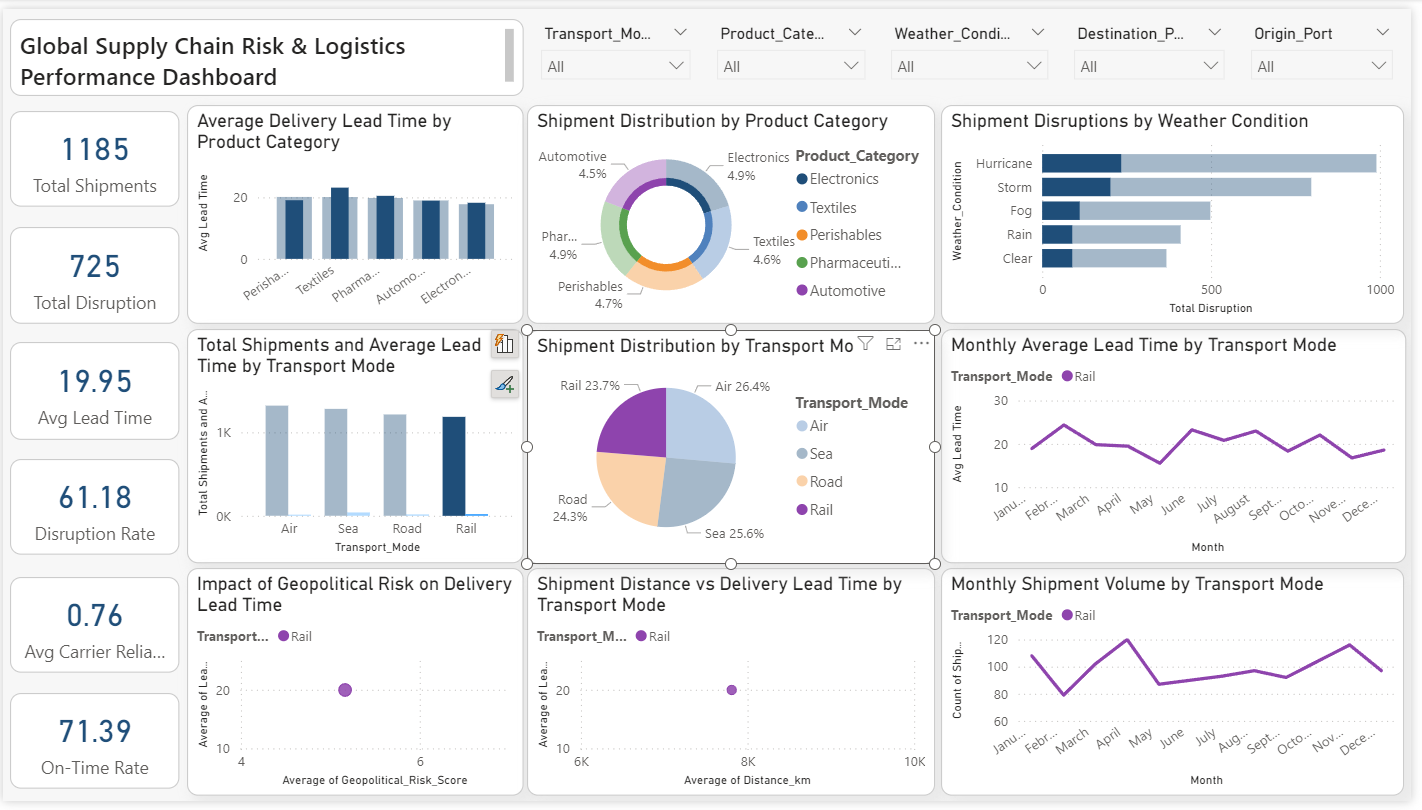

Layout of this report page (visuals, bound fields, positions):
{"tool":"powerbi","page":{"name":"Page 4","canvas":[1280,720],"ordinal":3},"visuals":[{"type":"columnChart","title":"Average Delivery Lead Time by Product Category","fields":{"Category":["supply_chain_analysis shipments.Product_Category"],"Y":["supply_chain_analysis shipments.Avg Lead Time"]},"box":[167.4,87.2,305.8,198.8],"z":0},{"type":"clusteredColumnChart","title":"Total Shipments and Average Lead Time by Transport Mode","fields":{"Category":["supply_chain_analysis shipments.Transport_Mode"],"Y":["supply_chain_analysis shipments.Total Shipments","supply_chain_analysis shipments.Avg Lead Time"]},"box":[167.4,290.7,305.8,212.8],"z":1000},{"type":"scatterChart","title":"Impact of Geopolitical Risk on Delivery Lead Time","fields":{"X":["Avg(supply_chain_analysis shipments.Geopolitical_Risk_Score)"],"Y":["Avg(supply_chain_analysis shipments.Lead_Time_Days)"],"Size":["Avg(supply_chain_analysis shipments.Weight_MT)"],"Series":["supply_chain_analysis shipments.Transport_Mode"]},"box":[167.4,508.1,305.8,207],"z":2000},{"type":"slicer","fields":{"Values":["supply_chain_analysis shipments.Transport_Mode"]},"box":[479,8.8,155.8,69.8],"z":3000},{"type":"slicer","fields":{"Values":["supply_chain_analysis shipments.Product_Category"]},"box":[639.5,8.8,154.7,69.8],"z":4000},{"type":"slicer","fields":{"Values":["supply_chain_analysis shipments.Weather_Condition"]},"box":[797.6,8.8,162.8,69.8],"z":5000},{"type":"slicer","fields":{"Values":["supply_chain_analysis shipments.Destination_Port"]},"box":[963.9,8.8,157,69.8],"z":6000},{"type":"slicer","fields":{"Values":["supply_chain_analysis shipments.Origin_Port"]},"box":[1124.3,8.8,148.8,69.8],"z":7000},{"type":"scatterChart","title":"Shipment Distance vs Delivery Lead Time by Transport Mode","fields":{"X":["Avg(supply_chain_analysis shipments.Distance_km)"],"Y":["Avg(supply_chain_analysis shipments.Lead_Time_Days)"],"Series":["supply_chain_analysis shipments.Transport_Mode"]},"box":[476.7,508.1,370.9,207],"z":8000},{"type":"pieChart","title":"Shipment Distribution by Transport Mode","fields":{"Category":["supply_chain_analysis shipments.Transport_Mode"],"Y":["CountNonNull(supply_chain_analysis shipments.Shipment_ID)"]},"box":[476.7,291.9,370.9,212.8],"z":9000},{"type":"lineChart","title":"Monthly Shipment Volume by Transport Mode","fields":{"Category":["supply_chain_analysis shipments.Date.Variation.Date Hierarchy.Year","supply_chain_analysis shipments.Date.Variation.Date Hierarchy.Quarter","supply_chain_analysis shipments.Date.Variation.Date Hierarchy.Month"],"Y":["CountNonNull(supply_chain_analysis shipments.Shipment_ID)"],"Series":["supply_chain_analysis shipments.Transport_Mode"]},"box":[852.3,508.1,420.9,207],"z":10000},{"type":"lineChart","title":"Monthly Average Lead Time by Transport Mode","fields":{"Category":["supply_chain_analysis shipments.Date.Variation.Date Hierarchy.Month"],"Y":["supply_chain_analysis shipments.Avg Lead Time"],"Series":["supply_chain_analysis shipments.Transport_Mode"]},"box":[852.3,290.7,423.3,212.8],"z":11000},{"type":"donutChart","title":"Shipment Distribution by Product Category","fields":{"Category":["supply_chain_analysis shipments.Product_Category"],"Y":["CountNonNull(supply_chain_analysis shipments.Shipment_ID)"]},"box":[476.7,87.2,370.9,198.8],"z":12000},{"type":"barChart","title":"Shipment Disruptions by Weather Condition","fields":{"Category":["supply_chain_analysis shipments.Weather_Condition"],"Y":["supply_chain_analysis shipments.Total Disruption"]},"box":[852.3,87.2,420.9,198.8],"z":13000},{"type":"card","fields":{"Values":["supply_chain_analysis shipments.Total Shipments"]},"box":[6.2,93.1,154.3,86.9],"z":14000},{"type":"card","fields":{"Values":["supply_chain_analysis shipments.Total Disruption"]},"box":[6.2,197.7,154.3,87.8],"z":15000},{"type":"card","fields":{"Values":["supply_chain_analysis shipments.Avg Lead Time"]},"box":[6.2,302.4,154.3,88.7],"z":16000},{"type":"card","fields":{"Values":["supply_chain_analysis shipments.Disruption Rate"]},"box":[6.2,408.8,154.3,86.9],"z":17000},{"type":"textbox","box":[6.2,8.9,467.3,70],"z":18000},{"type":"card","fields":{"Values":["supply_chain_analysis shipments.Avg Carrier Reliability"]},"box":[6.2,516.1,154.3,86.9],"z":19000},{"type":"card","fields":{"Values":["supply_chain_analysis shipments.On-Time Rate"]},"box":[6,621.9,154.2,86.7],"z":19001}]}

Visuals, with their boxes in screenshot pixels (x1, y1, x2, y2), scaled from the page's 1280x720 canvas onto the 1422x810 screenshot:
"Average Delivery Lead Time by Product Category" columnChart: 186/98/526/322
"Total Shipments and Average Lead Time by Transport Mode" clusteredColumnChart: 186/327/526/566
"Impact of Geopolitical Risk on Delivery Lead Time" scatterChart: 186/572/526/804
slicer - supply_chain_analysis shipments.Transport_Mode: 532/10/705/88
slicer - supply_chain_analysis shipments.Product_Category: 710/10/882/88
slicer - supply_chain_analysis shipments.Weather_Condition: 886/10/1067/88
slicer - supply_chain_analysis shipments.Destination_Port: 1071/10/1245/88
slicer - supply_chain_analysis shipments.Origin_Port: 1249/10/1414/88
"Shipment Distance vs Delivery Lead Time by Transport Mode" scatterChart: 530/572/942/804
"Shipment Distribution by Transport Mode" pieChart: 530/328/942/568
"Monthly Shipment Volume by Transport Mode" lineChart: 947/572/1414/804
"Monthly Average Lead Time by Transport Mode" lineChart: 947/327/1417/566
"Shipment Distribution by Product Category" donutChart: 530/98/942/322
"Shipment Disruptions by Weather Condition" barChart: 947/98/1414/322
card - supply_chain_analysis shipments.Total Shipments: 7/105/178/202
card - supply_chain_analysis shipments.Total Disruption: 7/222/178/321
card - supply_chain_analysis shipments.Avg Lead Time: 7/340/178/440
card - supply_chain_analysis shipments.Disruption Rate: 7/460/178/558
textbox: 7/10/526/89
card - supply_chain_analysis shipments.Avg Carrier Reliability: 7/581/178/678
card - supply_chain_analysis shipments.On-Time Rate: 7/700/178/797
